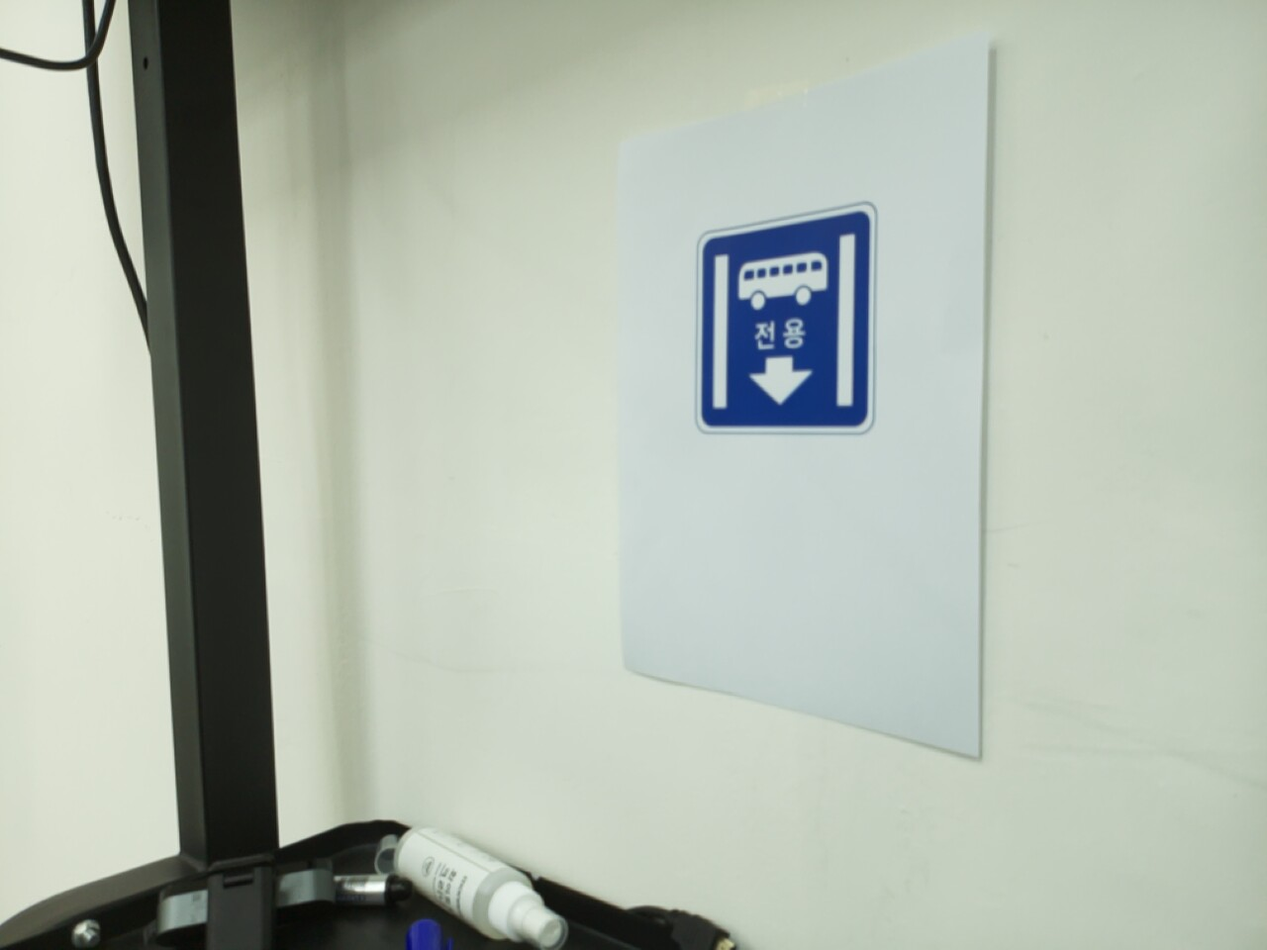bus_only_lane: (694, 203, 877, 435)
